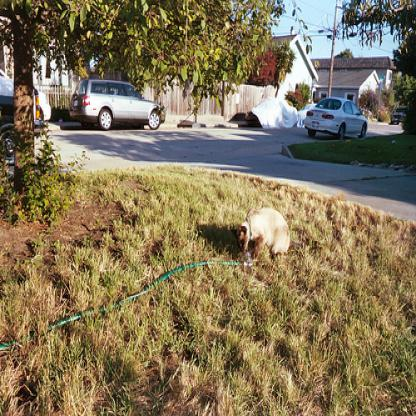car: (68, 76, 166, 130), (0, 68, 46, 166), (302, 95, 369, 141)
cat: (229, 206, 291, 259)
